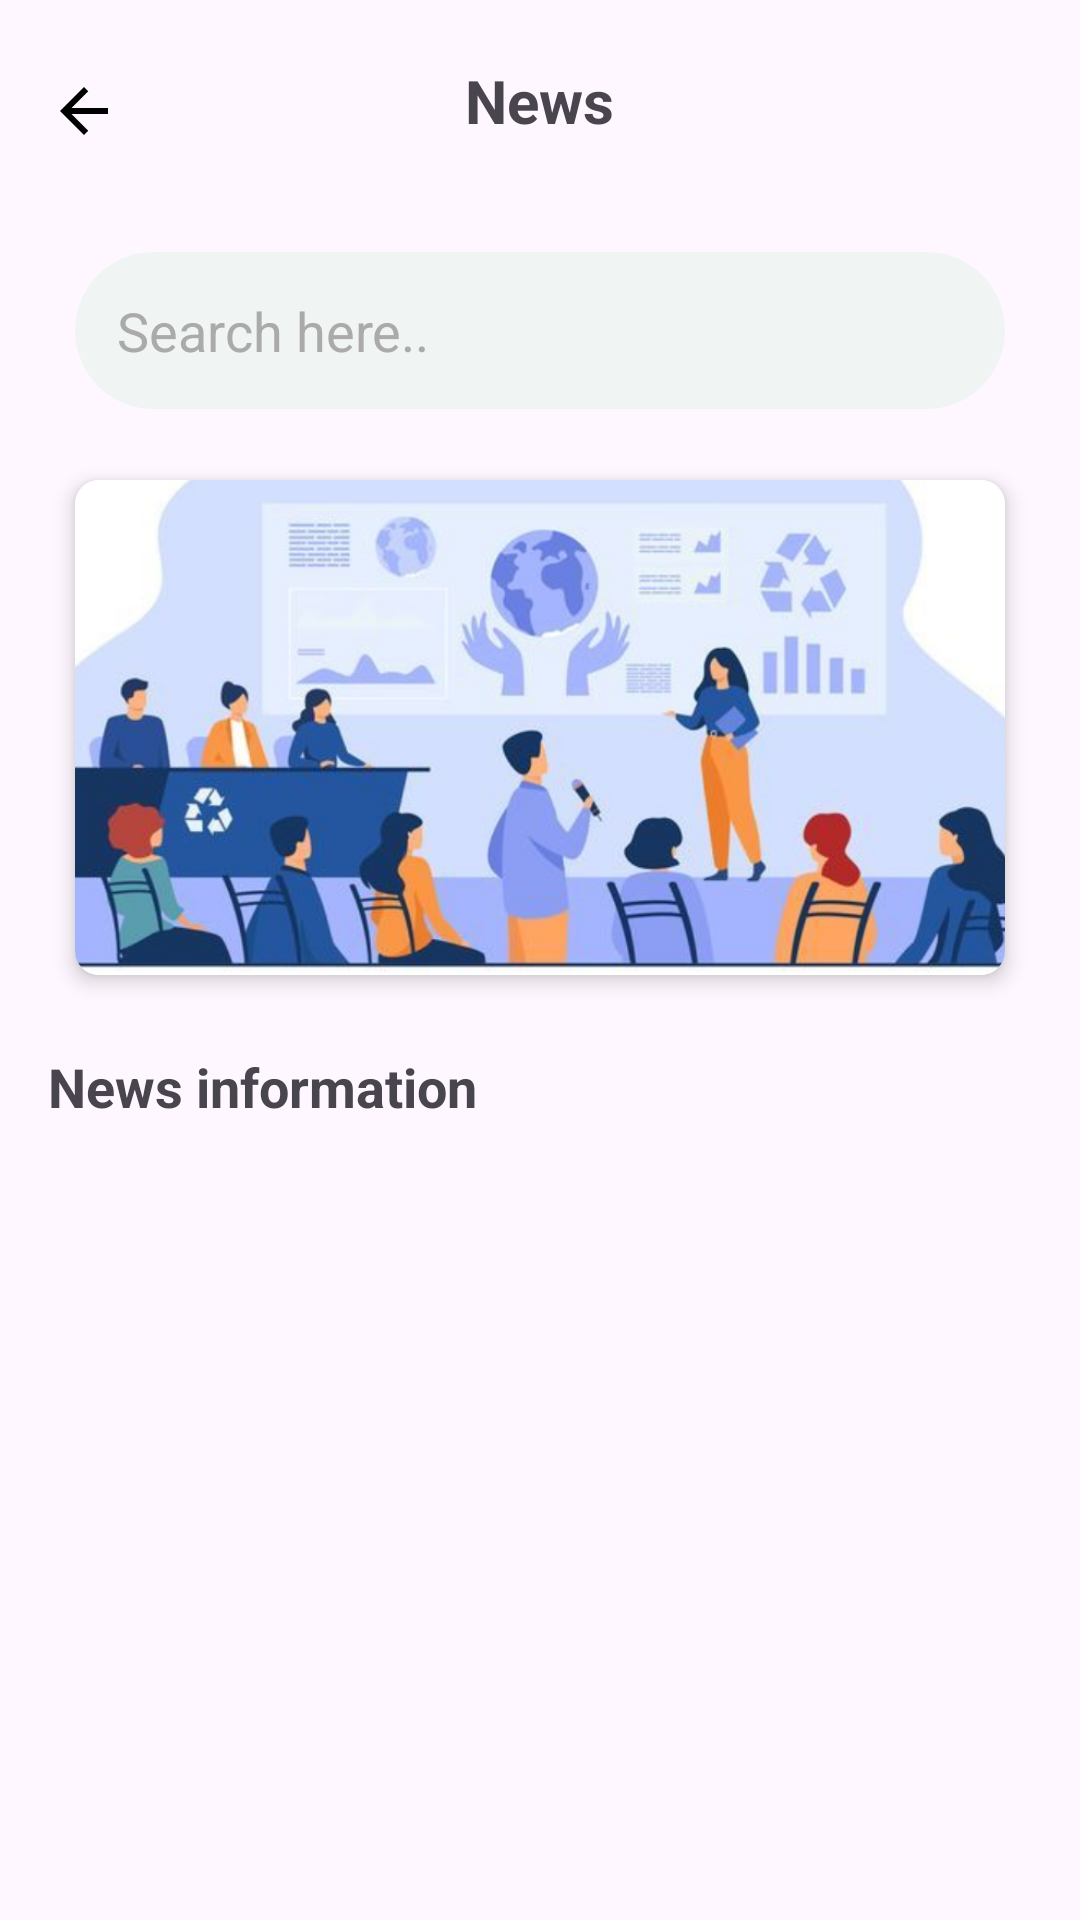

Screen size 1080px x 1920px. Icon name, then its center in pixels as [x,y]:
Back Button: [84,111]
